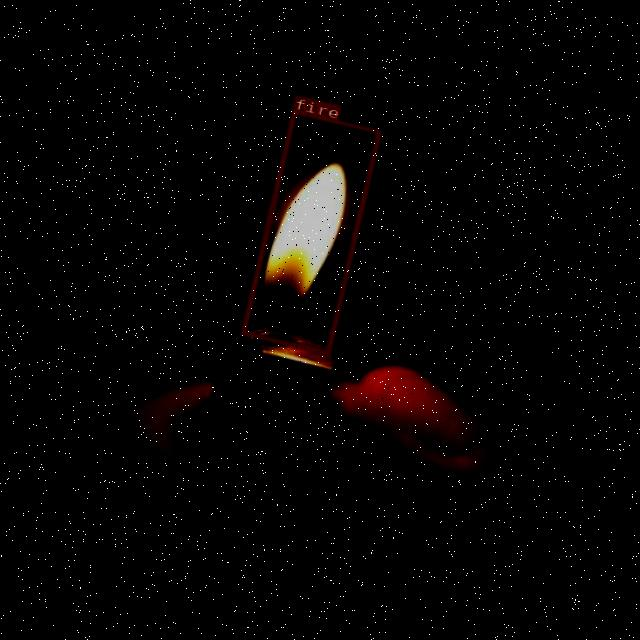fire: (238, 108, 380, 354)
